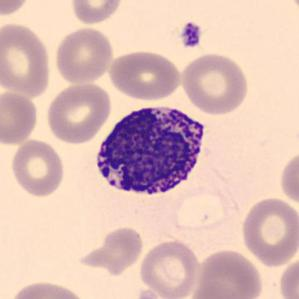Basophil: (90, 98, 211, 203)
Platelets: (178, 21, 203, 50)
RBC: (178, 50, 251, 116), (44, 80, 114, 145), (238, 195, 298, 268), (0, 21, 54, 99), (106, 48, 184, 102), (162, 180, 238, 234), (52, 24, 115, 85), (137, 238, 201, 298), (193, 247, 265, 299), (75, 225, 146, 275), (8, 138, 67, 198), (0, 89, 40, 146), (7, 278, 88, 299), (68, 0, 124, 26), (278, 148, 298, 209), (186, 282, 243, 299), (277, 253, 298, 299), (0, 0, 33, 18)
